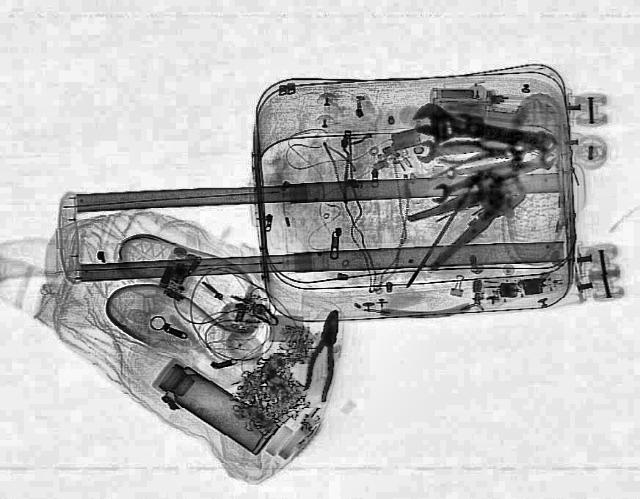Pliers: (392, 170, 554, 270), (300, 310, 346, 403)
Wrench: (404, 100, 554, 158), (422, 155, 514, 204)
